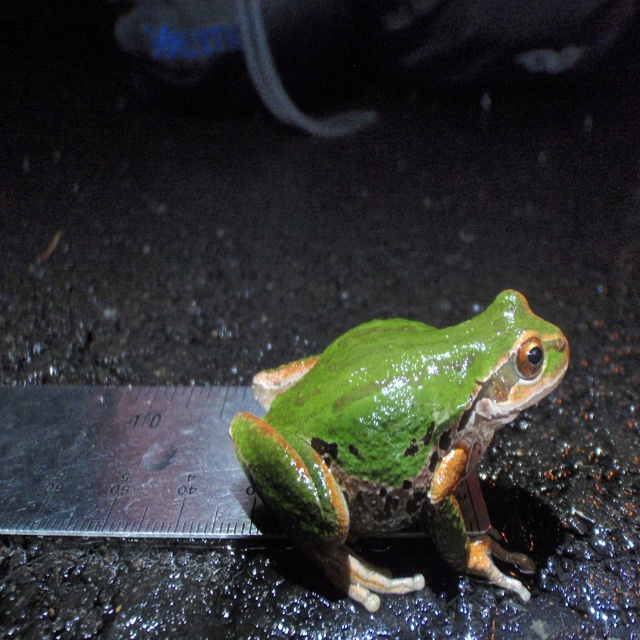Frog: (230, 287, 569, 614)
